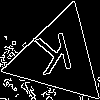K: (33, 32, 78, 85)
